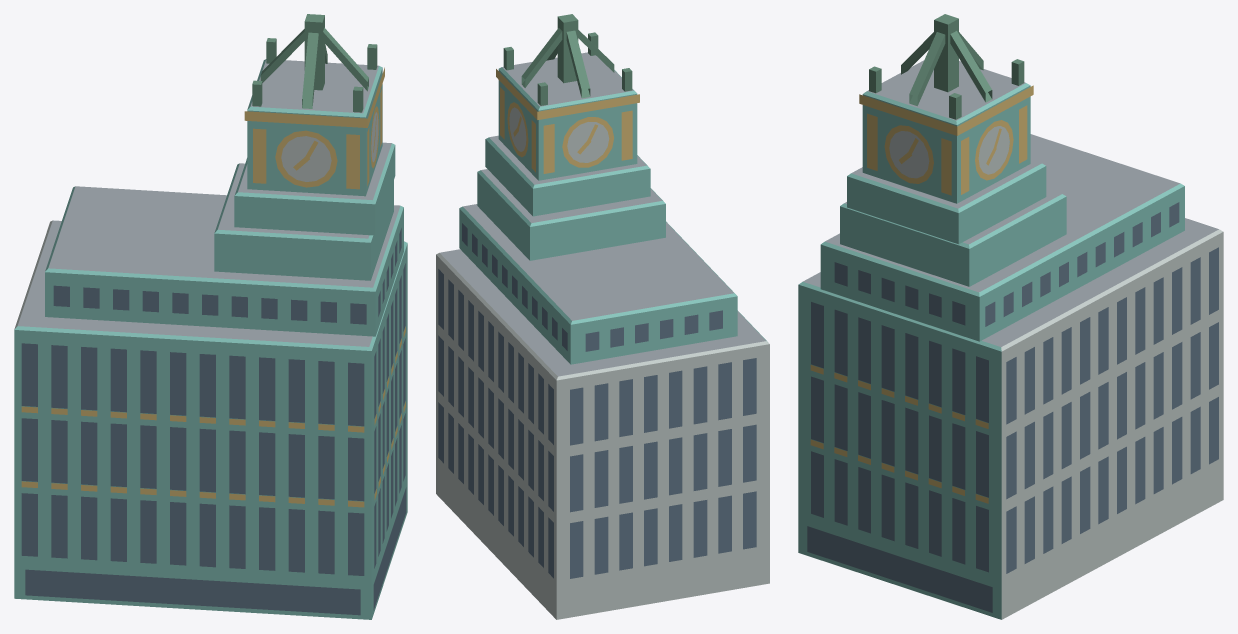
File: detail.glb
The picture shows the model from 3 angles, left to right: view 1: azimuth 30°, elevation 25°; view 2: azimuth 150°, elevation 25°; view 3: azimuth 270°, elevation 25°; orthographic projection. The views are drawn at different scales.
Visible parts, largest first — view 1: eastern-columbia-building; view 2: eastern-columbia-building; view 3: eastern-columbia-building.
Boxes of the visible parts, box(x1,y1,x2,y2) form: eastern-columbia-building: box(14, 14, 407, 619); eastern-columbia-building: box(436, 14, 769, 619); eastern-columbia-building: box(798, 14, 1223, 619).
Size of the model in its own units: 59.22 by 80 by 56.86.
